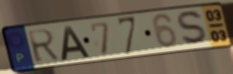6: (151, 11, 181, 51)
7: (117, 15, 140, 57), (89, 21, 111, 57)
A: (60, 25, 92, 62)
R: (26, 28, 62, 65)
S: (176, 9, 212, 47)
